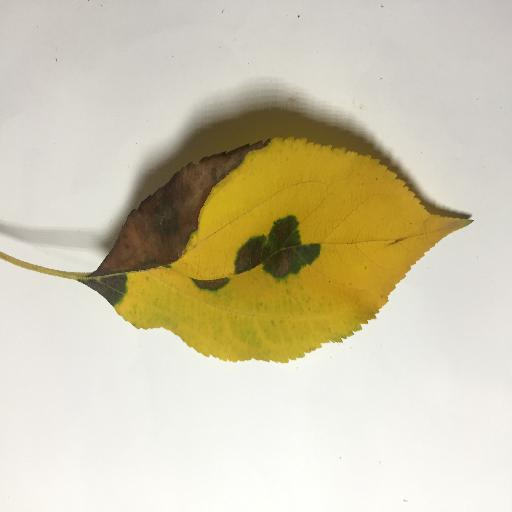Brown_Spot: (104, 160, 231, 272), (227, 239, 318, 274), (183, 280, 243, 291)
